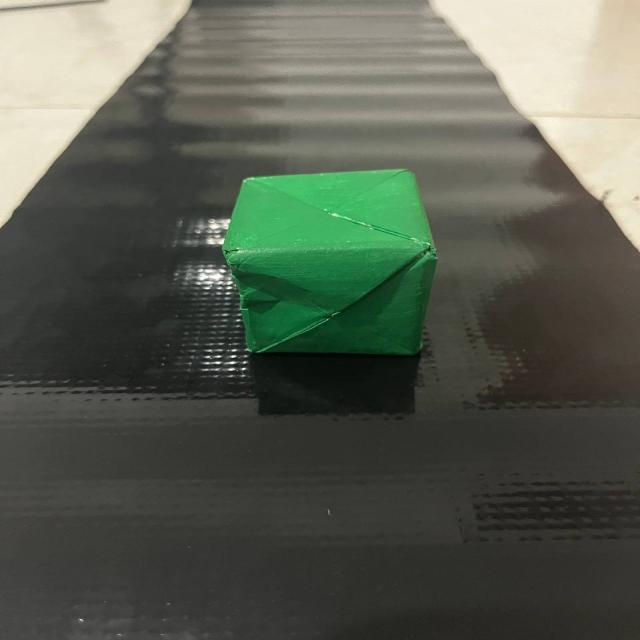Verde: (205, 158, 465, 380)
